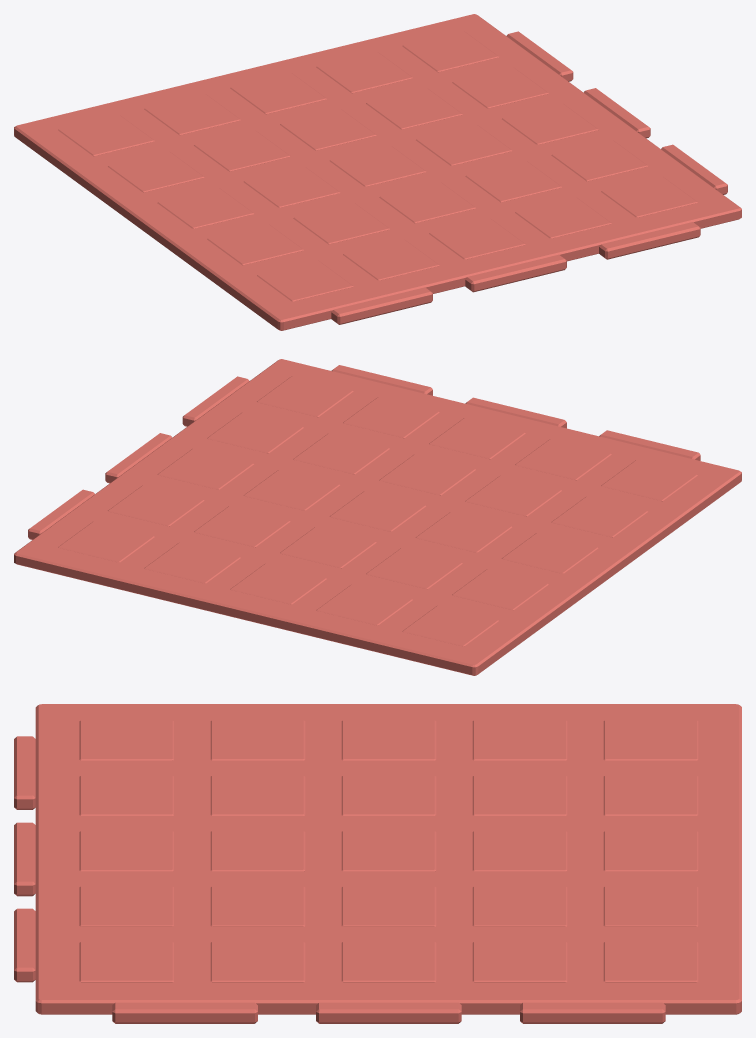
Rendered from floor_tile_accent.glb.
3 renders of one model, top to bottom at view 1: azimuth 30°, elevation 25°; view 2: azimuth 150°, elevation 25°; view 3: azimuth 270°, elevation 25°, orthographic. The views are drawn at different scales.
Parts seen in each view (by area): view 1: rubber-floor-tile-accent; view 2: rubber-floor-tile-accent; view 3: rubber-floor-tile-accent.
Part boxes in pixels (x1,y1,x2,y2): rubber-floor-tile-accent: (14, 14, 741, 330); rubber-floor-tile-accent: (14, 359, 741, 675); rubber-floor-tile-accent: (14, 704, 741, 1023).
Bounding box in the file's own units: 1 × 0.0245 × 1.
